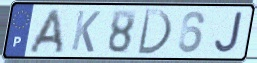6: (177, 10, 208, 55)
8: (106, 8, 137, 55)
A: (26, 7, 65, 55)
D: (135, 8, 174, 57)
J: (213, 11, 244, 55)
K: (69, 9, 103, 55)
